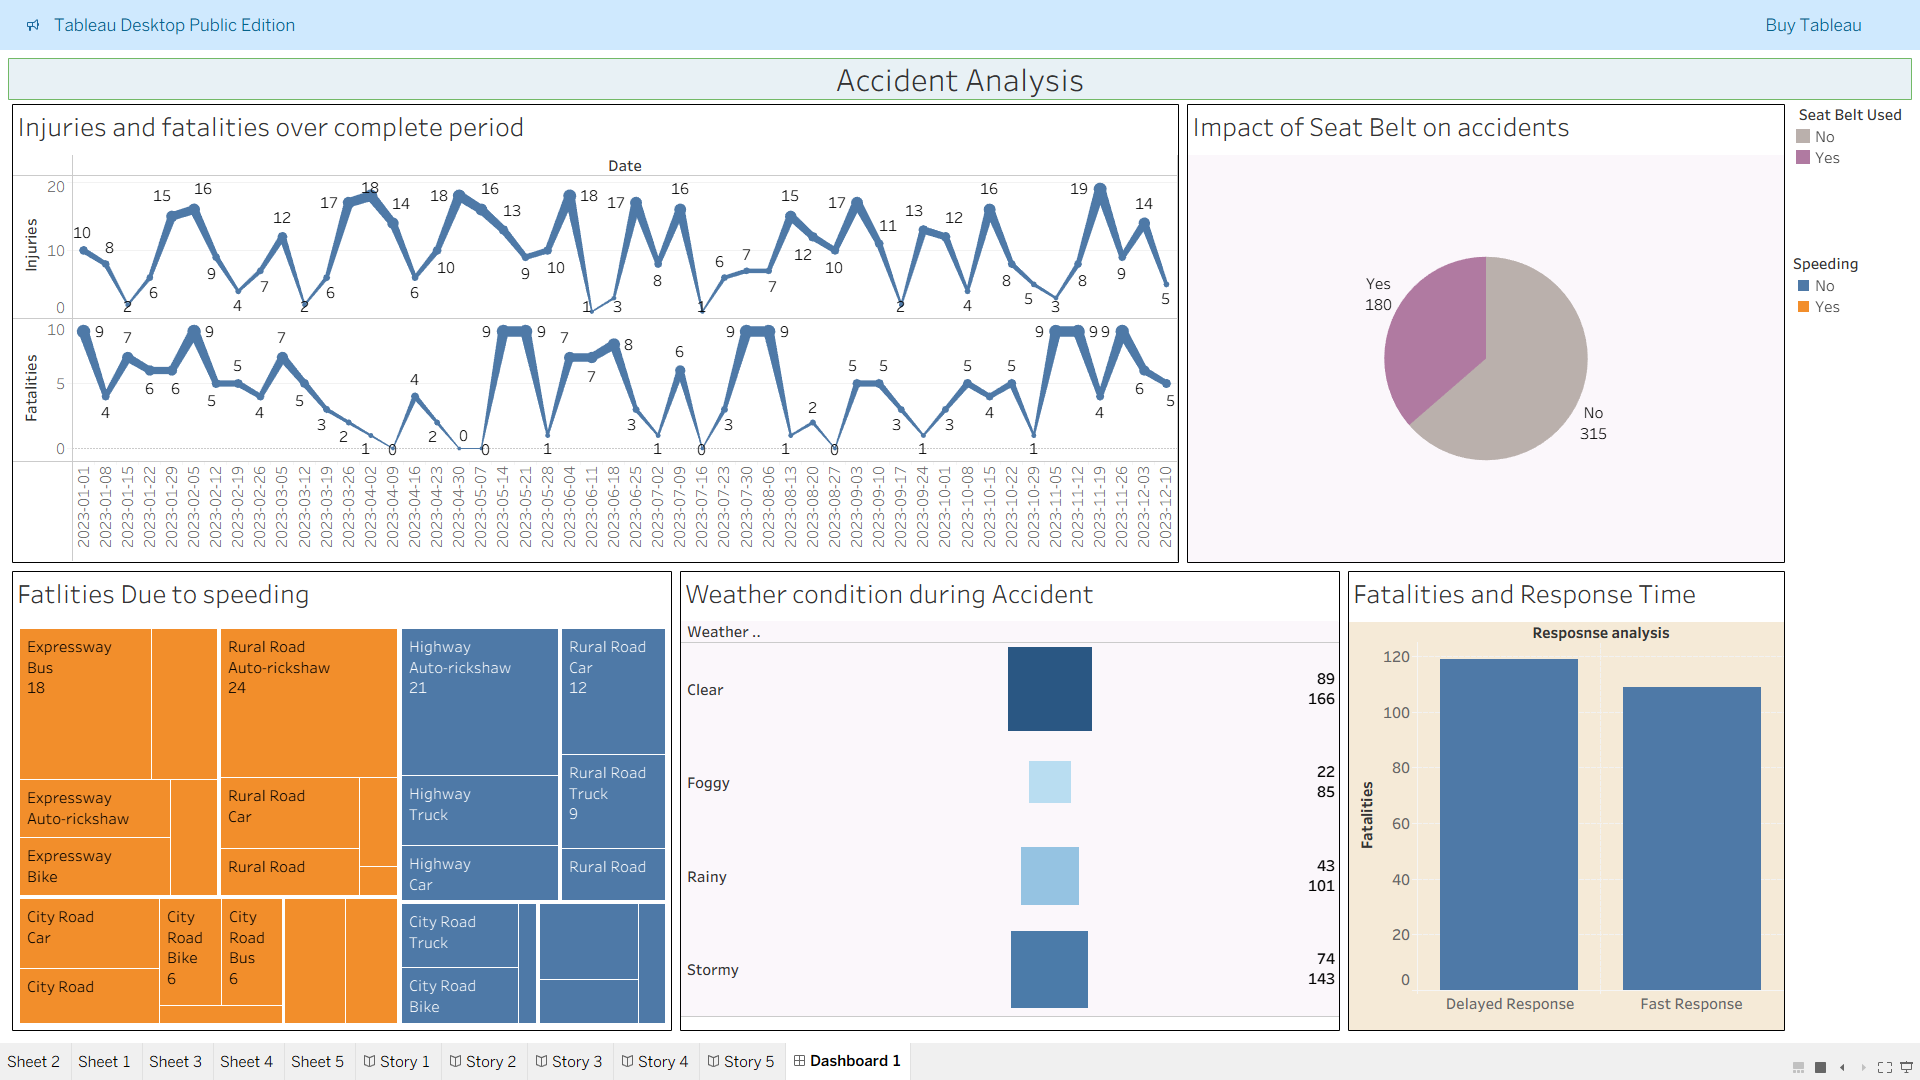

The dashboard page shown, as its layout file describes it:
{"tool":"tableau","page":{"name":"Dashboard 1","canvas":[1000,1000],"units":"permille","ordinal":0},"visuals":[{"type":"title","box":[4.8,9.9,990.3,51.8]},{"type":"worksheet","title":"Sheet 2","mark":"Line","rows":["Injuries","Fatalities"],"cols":["Date"],"box":[4.8,61.6,604.6,464.2]},{"type":"worksheet","title":"Sheet 3","mark":"Pie","box":[609.5,61.6,311.5,464.2]},{"type":"legend","title":"Sheet 3","param":"[federated.0m745yx0yk9qxv0zpj5qd173z369].[none:Seat Belt Used:nk]","box":[920.9,61.6,74.2,183.7]},{"type":"legend","title":"Sheet 4","param":"[federated.0m745yx0yk9qxv0zpj5qd173z369].[none:Speeding:nk]","box":[920.9,245.4,74.2,178.8]},{"type":"worksheet","title":"Sheet 4","mark":"Automatic","box":[4.8,525.8,343.5,464.3]},{"type":"worksheet","title":"Sheet 1","mark":"Automatic","rows":["Weather Condition"],"box":[348.3,525.8,343.6,464.3]},{"type":"worksheet","title":"Sheet 5","mark":"Automatic","rows":["Fatalities"],"cols":["Calculation_265712415756345344"],"box":[691.9,525.8,229.1,464.3]}]}

Visuals, with their boxes on the dashboard's canvas, which has no fixed pixel size, in thousandths of its width and height (x1, y1, x2, y2). These are canvas units, not pixel positions in the 1920x1080 screenshot, which may show the page scaled, cropped or inside an application window:
title: bbox=(5, 10, 995, 62)
"Sheet 2" worksheet (Line marks): bbox=(5, 62, 609, 526)
"Sheet 3" worksheet (Pie marks): bbox=(610, 62, 921, 526)
"Sheet 3" legend: bbox=(921, 62, 995, 245)
"Sheet 4" legend: bbox=(921, 245, 995, 424)
"Sheet 4" worksheet: bbox=(5, 526, 348, 990)
"Sheet 1" worksheet: bbox=(348, 526, 692, 990)
"Sheet 5" worksheet: bbox=(692, 526, 921, 990)
